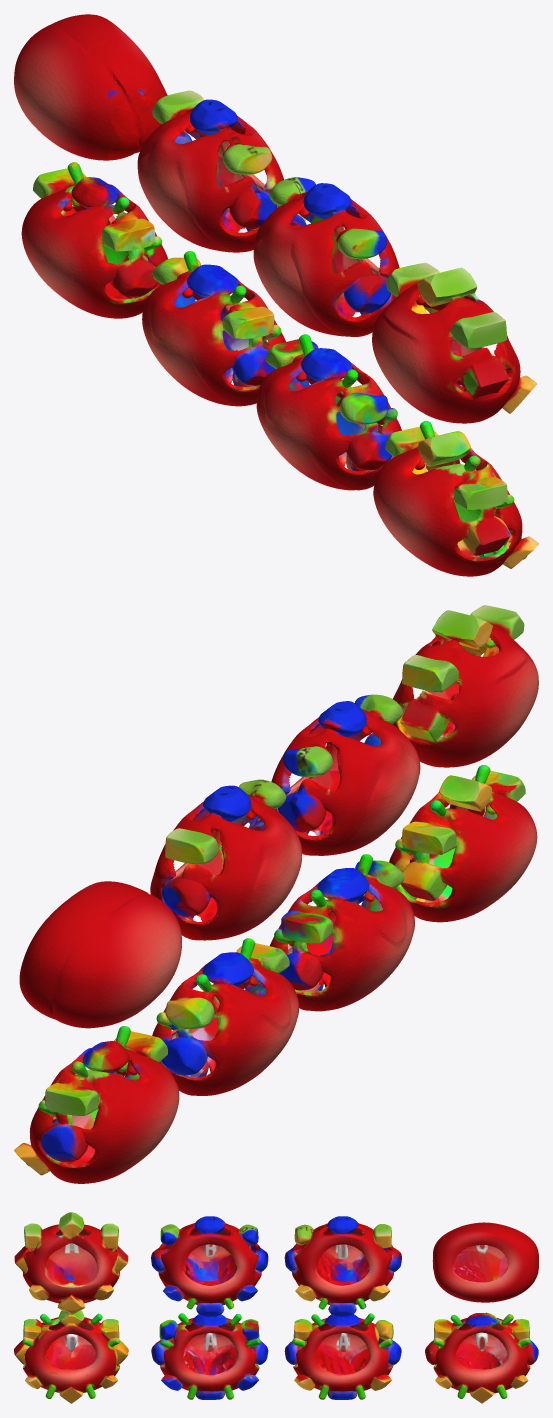
The model's file is bloodgroup.glb.
The picture shows the model from 3 angles, top to bottom: view 1: azimuth 30°, elevation 25°; view 2: azimuth 150°, elevation 25°; view 3: azimuth 270°, elevation 25°; orthographic projection. The views are drawn at different scales.
Visible parts, largest first — view 1: tripo_node_ae469643-e953-4284-9aaf-0ac808ea053f; view 2: tripo_node_ae469643-e953-4284-9aaf-0ac808ea053f; view 3: tripo_node_ae469643-e953-4284-9aaf-0ac808ea053f.
Part boxes in pixels (<box>): tripo_node_ae469643-e953-4284-9aaf-0ac808ea053f: <box>14,14,538,576</box>; tripo_node_ae469643-e953-4284-9aaf-0ac808ea053f: <box>14,605,538,1183</box>; tripo_node_ae469643-e953-4284-9aaf-0ac808ea053f: <box>14,1212,538,1403</box>.
Size of the model in its own units: 0.1551 by 0.368 by 1.
Materials: 1 (1 with a texture image).
